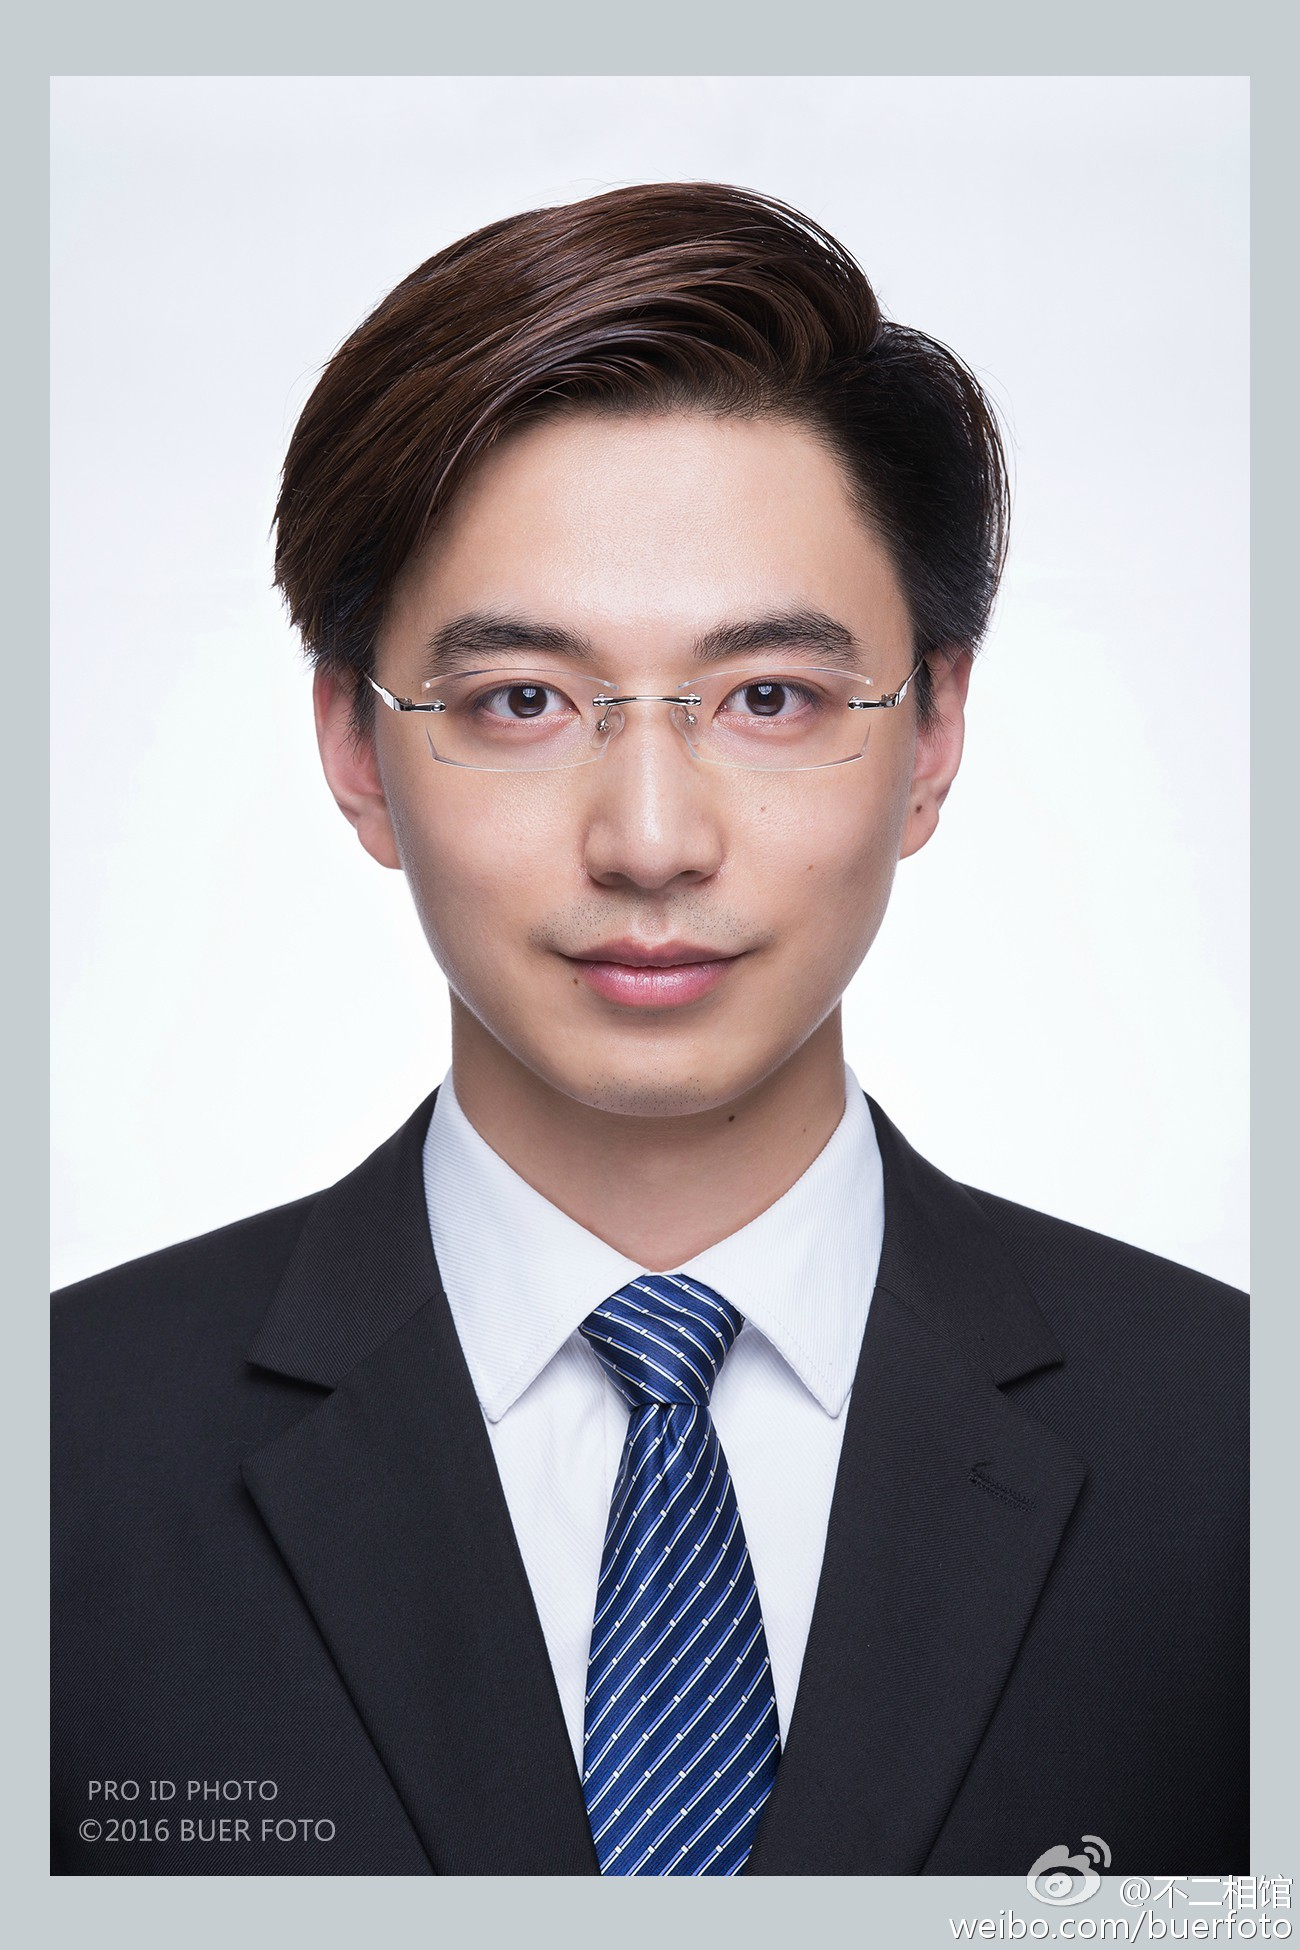unmask: (366, 480, 922, 1075)
